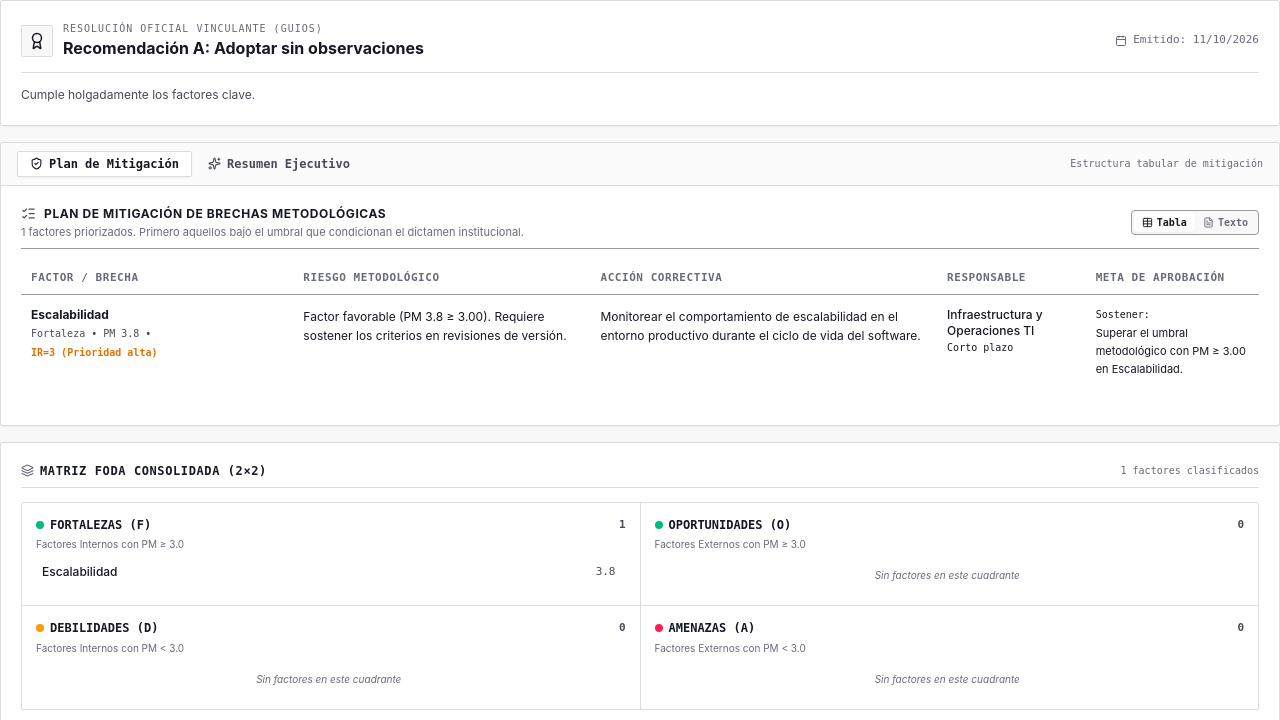
EvaluationVerdictSWOTTab › muestra resolución oficial, resumen ejecutivo y permite inspeccionar un factor FODA
Later steps or results of the test are not shown.
Expected: the heading "Recomendación A: Adoptar sin observaciones" is shown, [63,36,424,60]
Click the button "Resumen Ejecutivo".
click(279, 164)  # box [196,152,362,176]
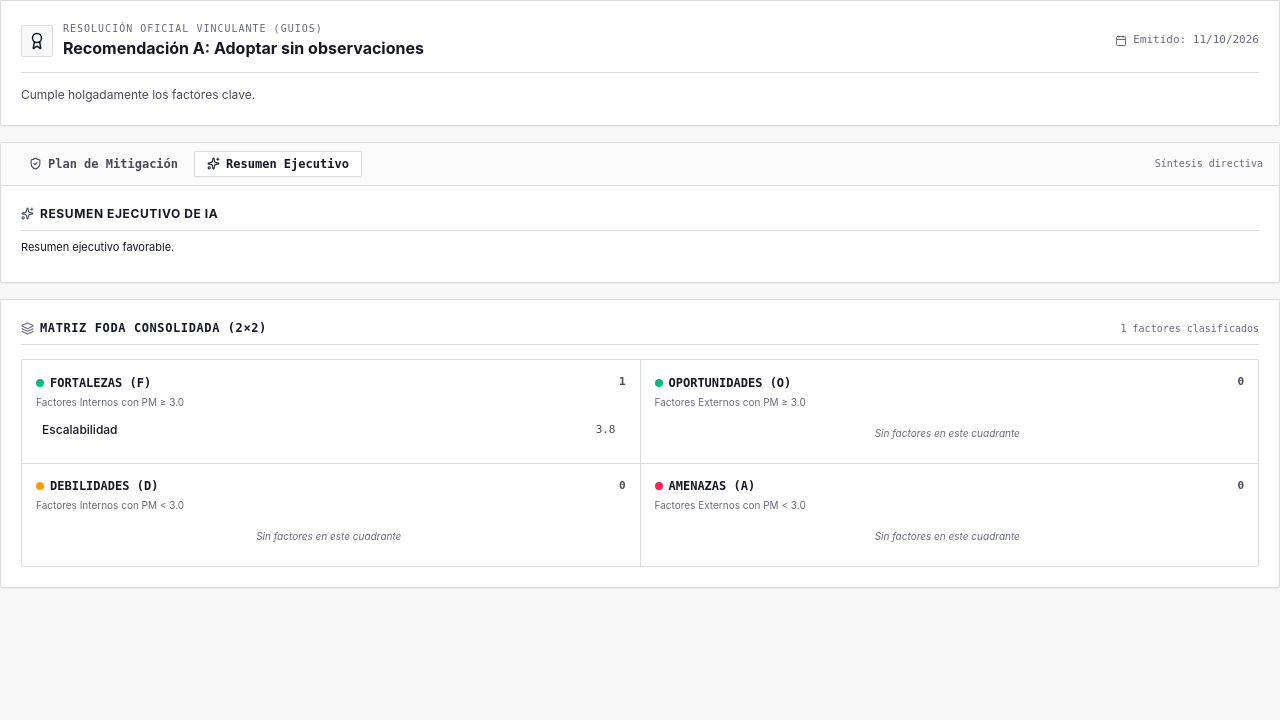
Expected: the text "Resumen ejecutivo favorable." is shown, [21,240,174,254]
